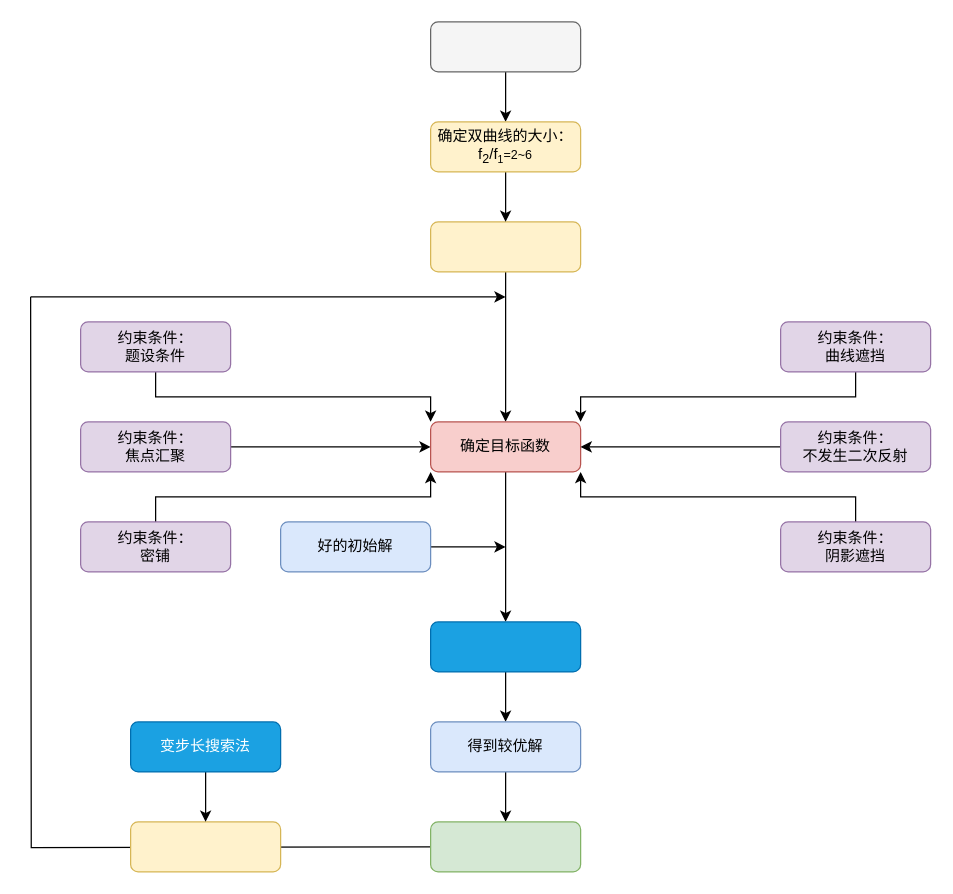
Image size: 953x894. Some labels were removed from this diagram. The shapes that lost their labels are listed below. From the top down, each one's centre as x and y in pixels, then its label:
At pixel 505 46: "确定曲线EF的形状：双曲线".
At pixel 505 246: "设定双曲线的大小：f 2 /f 1 =3".
At pixel 505 646: "模拟退火算法".
At pixel 205 846: "修改双曲线的大小：f 2 /f 1".
At pixel 505 846: "保留汇聚最大比例 得到最优解".
